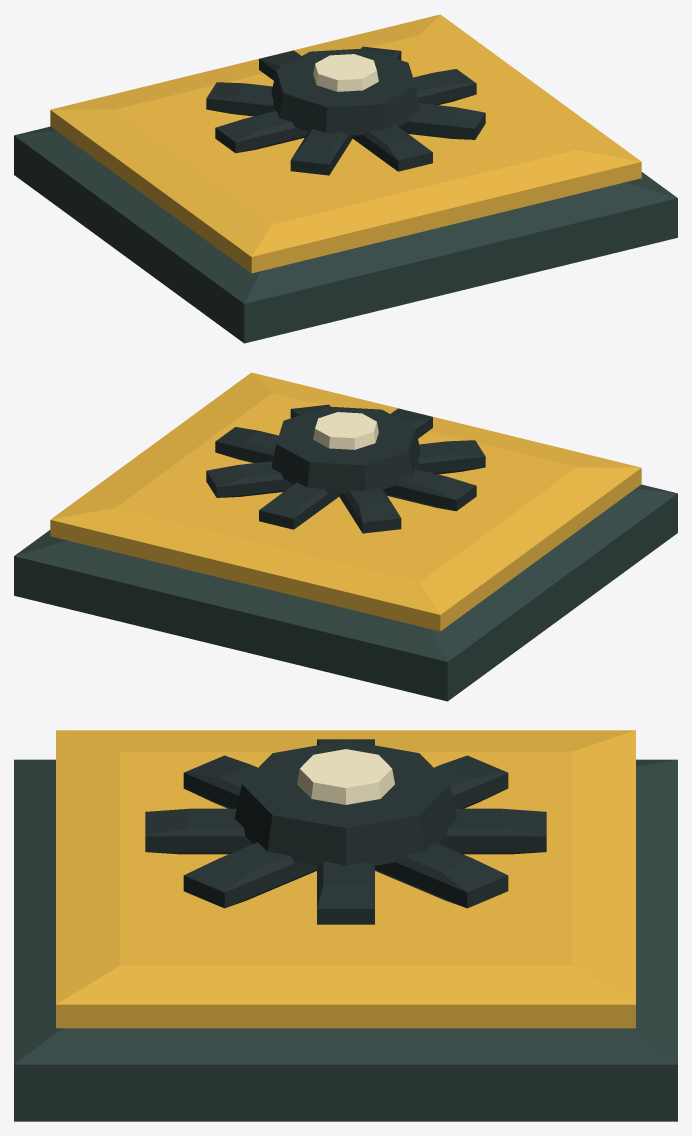
The model's file is badge_y.obj.
3 views of the same model, one above another, from view 1: azimuth 30°, elevation 25°; view 2: azimuth 150°, elevation 25°; view 3: azimuth 270°, elevation 25° (orthographic). The views are drawn at different scales.
Visible parts, largest first — view 1: badge_y; view 2: badge_y; view 3: badge_y.
Part boxes in pixels (box(x1,y1,x2,y2)): badge_y: box(14, 14, 677, 343); badge_y: box(14, 372, 677, 701); badge_y: box(14, 730, 677, 1121).
Bounding box in the file's own units: 0.25 × 0.083 × 0.23.
